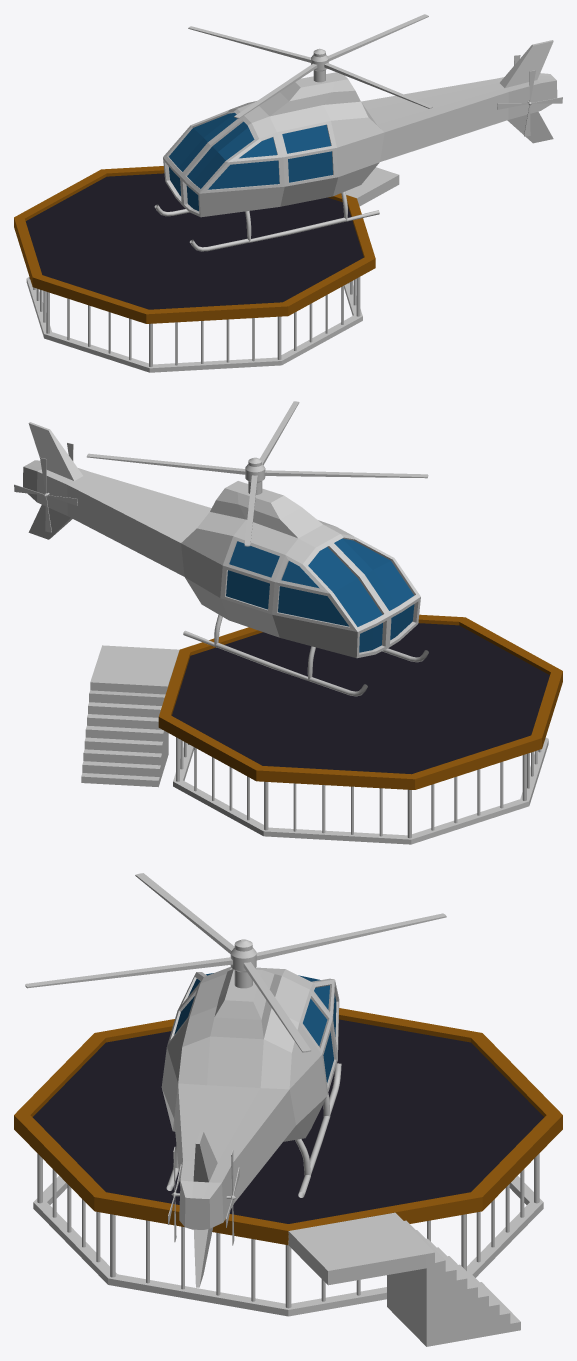
The model's file is copter_000190.obj.
3 renders of one model, top to bottom at view 1: azimuth 30°, elevation 25°; view 2: azimuth 150°, elevation 25°; view 3: azimuth 270°, elevation 25°, orthographic. The views are drawn at different scales.
Visible parts, largest first — view 1: Cylinder.001_Cylinder.012, Helicopter.007_Cylinder.008, Helicopter.001_Cylinder.001, Cylinder.004, Cylinder.003_Cylinder.005, Cylinder.002, Helicopter.003_Cylinder.004; view 2: Cylinder.001_Cylinder.012, Helicopter.007_Cylinder.008, Helicopter.001_Cylinder.001, Cylinder.004, Cylinder.003_Cylinder.005, Cylinder.002, Helicopter.004_Cylinder.005; view 3: Cylinder.001_Cylinder.012, Helicopter.007_Cylinder.008, Helicopter.001_Cylinder.001, Cylinder.004, Cylinder.002, Cylinder.003_Cylinder.005.
Part boxes in pixels (left/top/right/bottom): Cylinder.001_Cylinder.012: left=14, top=166, right=399, bottom=372; Helicopter.007_Cylinder.008: left=154, top=40, right=557, bottom=251; Helicopter.001_Cylinder.001: left=188, top=14, right=432, bottom=118; Cylinder.004: left=175, top=285, right=343, bottom=365; Cylinder.003_Cylinder.005: left=33, top=279, right=356, bottom=360; Cylinder.002: left=29, top=277, right=360, bottom=366; Helicopter.003_Cylinder.004: left=497, top=70, right=562, bottom=136; Cylinder.001_Cylinder.012: left=81, top=614, right=562, bottom=844; Helicopter.007_Cylinder.008: left=23, top=422, right=428, bottom=696; Helicopter.001_Cylinder.001: left=86, top=401, right=428, bottom=546; Cylinder.004: left=194, top=747, right=382, bottom=836; Cylinder.003_Cylinder.005: left=180, top=739, right=541, bottom=830; Cylinder.002: left=176, top=737, right=545, bottom=838; Helicopter.004_Cylinder.005: left=14, top=457, right=77, bottom=532; Cylinder.001_Cylinder.012: left=14, top=1008, right=562, bottom=1346; Helicopter.007_Cylinder.008: left=161, top=966, right=341, bottom=1287; Helicopter.001_Cylinder.001: left=25, top=873, right=446, bottom=1052; Cylinder.004: left=52, top=1169, right=524, bottom=1262; Cylinder.002: left=37, top=1153, right=539, bottom=1308; Cylinder.003_Cylinder.005: left=146, top=1220, right=430, bottom=1301.
Bounding box in the file's own units: 10.31 × 4.72 × 6.77.
